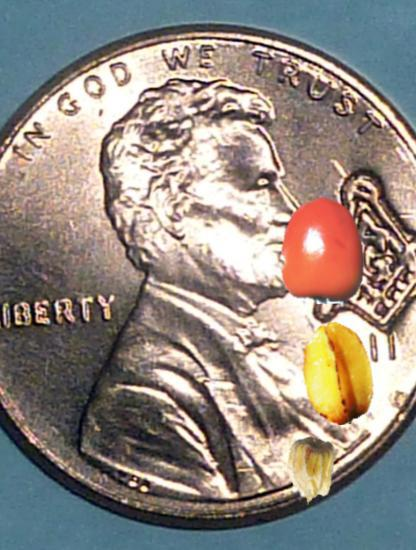Carambula: (286, 322, 390, 426)
Kaki: (268, 196, 377, 305)
Physalis: (276, 436, 346, 506)
